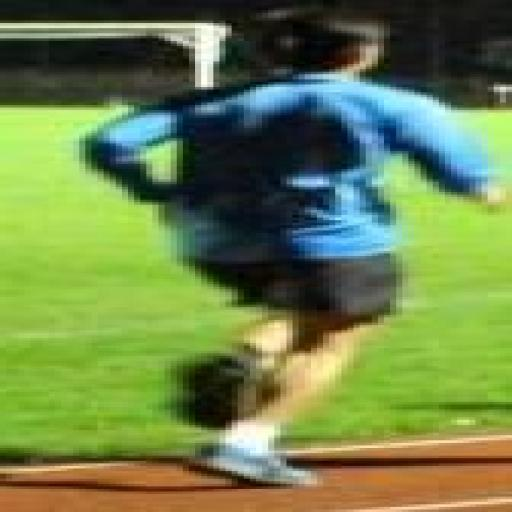person: (86, 11, 505, 486)
